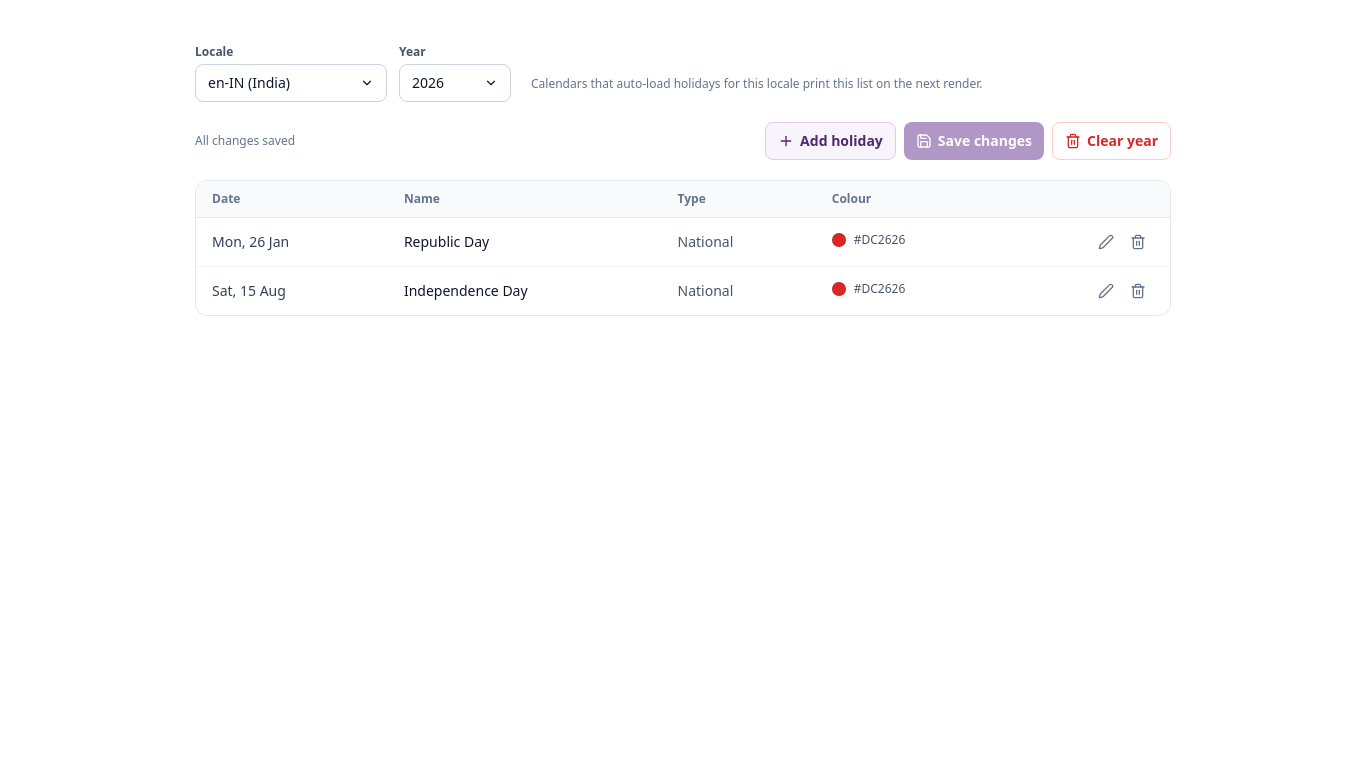
Test case: holidays page › shows the server detail when Save is refused
The width and height of the screenshot is (1366, 768).
What coordinates should you click on to do the following:
click the button named "Delete Republic Day"
I would click on:
 (1138, 242)
Its box is 1122,226 -> 1154,258.
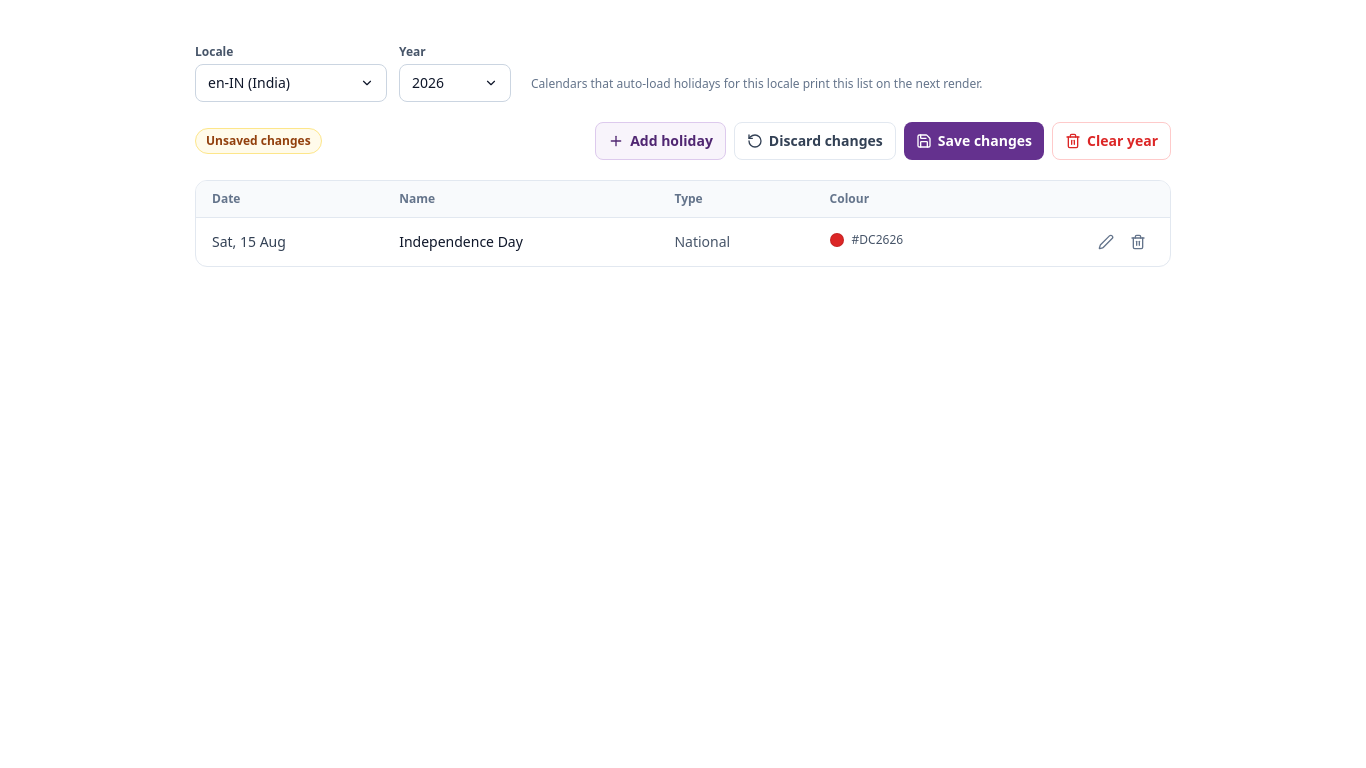
What coordinates should you click on to do the following:
click the button "Save changes"
I would click on:
 (974, 141)
Its box is 904,122 -> 1044,160.
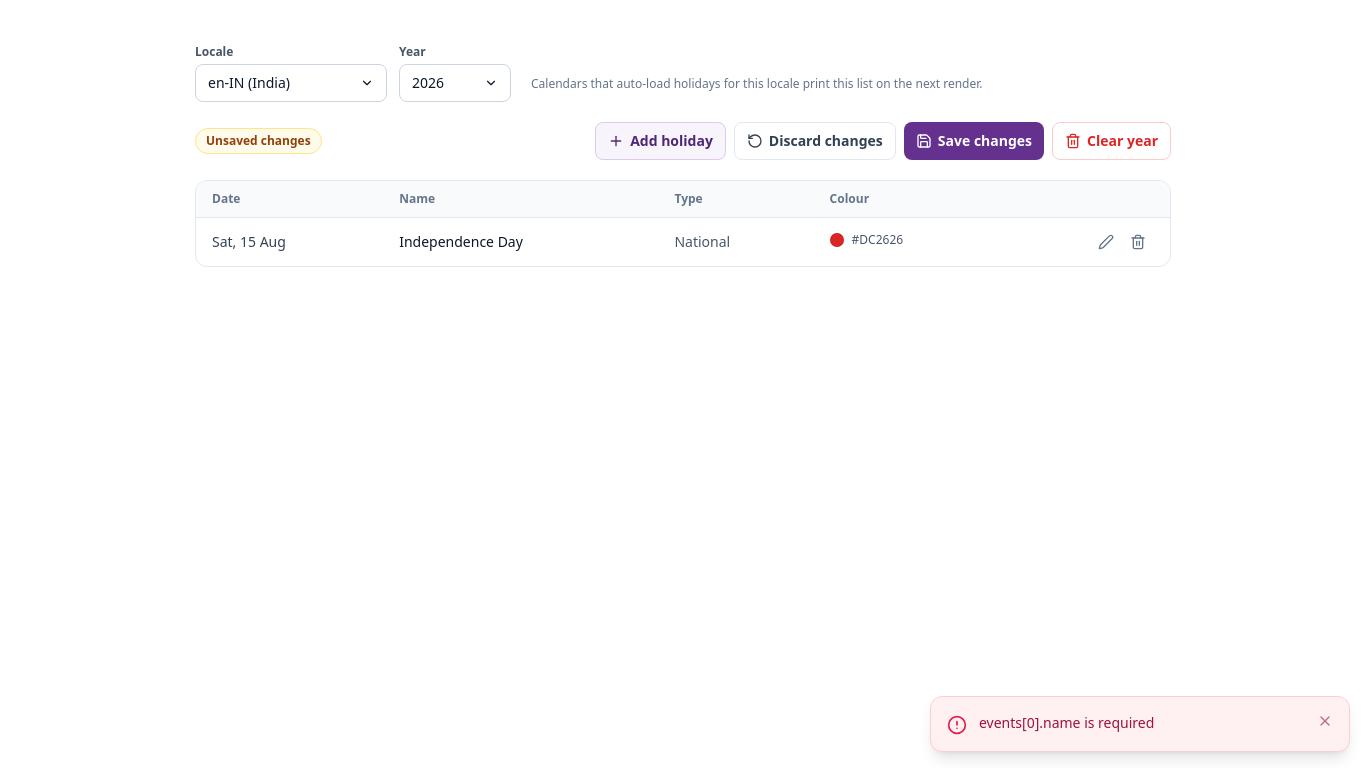
Expected: the text "Unsaved changes" is shown, 195,128 -> 322,154
Expected: the text "events[0].name is required" is shown, 979,713 -> 1154,733
